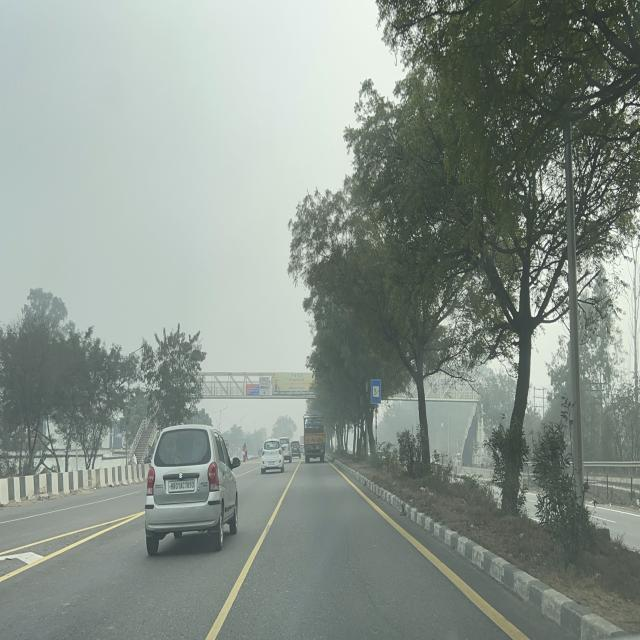INFORMATION: (371, 379, 381, 404)
